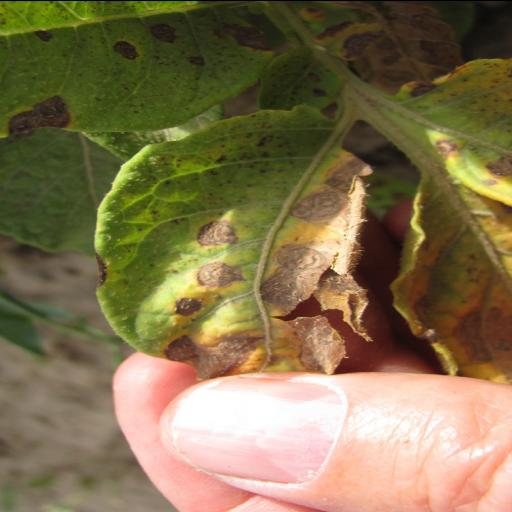disease_tomato: (94, 98, 378, 376)
